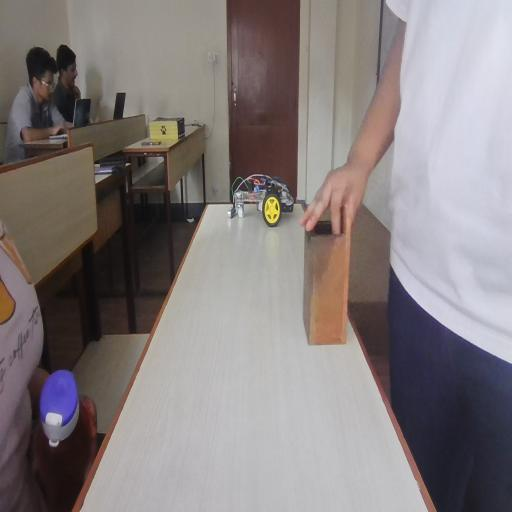car: (232, 159, 299, 223)
